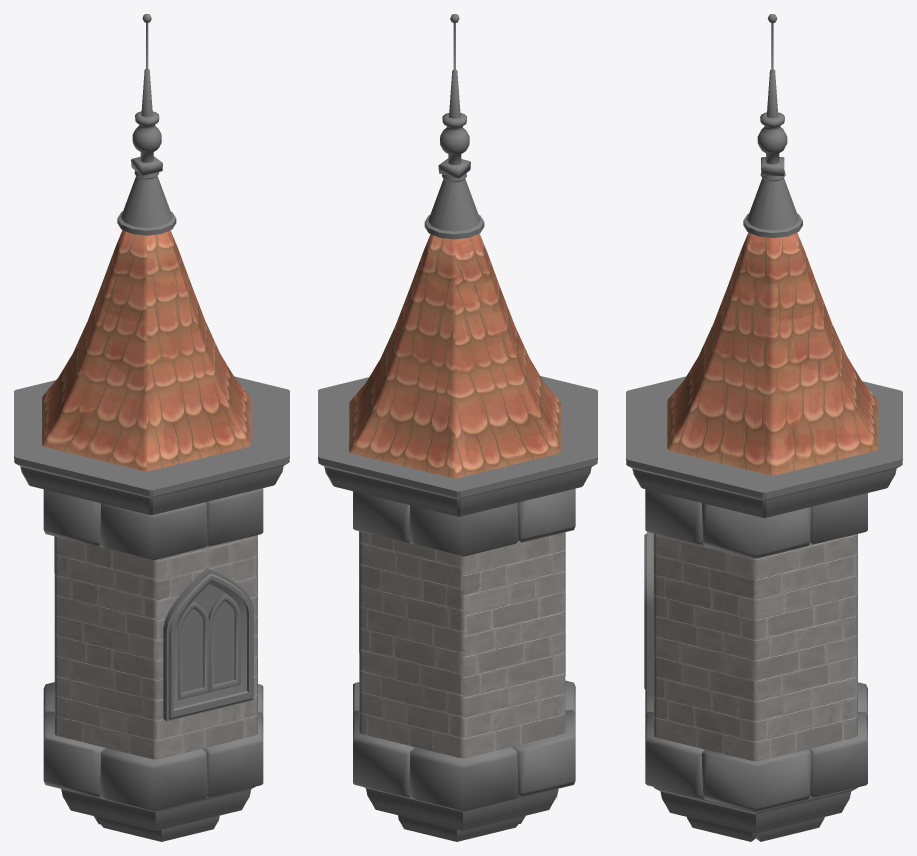
Rendered from building.fbx.
The picture shows the model from 3 angles, left to right: view 1: azimuth 30°, elevation 25°; view 2: azimuth 150°, elevation 25°; view 3: azimuth 270°, elevation 25°; orthographic projection.
Parts seen in each view (by area): view 1: Object33148; view 2: Object33148; view 3: Object33148.
Boxes of the visible parts, x1,y1,x2,y2 form: Object33148: [14, 14, 289, 841]; Object33148: [318, 14, 597, 841]; Object33148: [626, 14, 902, 841].
Size of the model in its own units: 121 by 335 by 105.
Materials: 6 (2 with a texture image).
